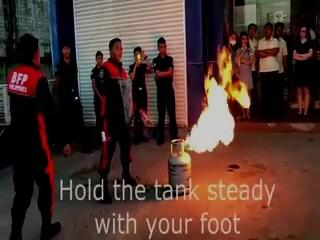Fire: (180, 50, 243, 154)
